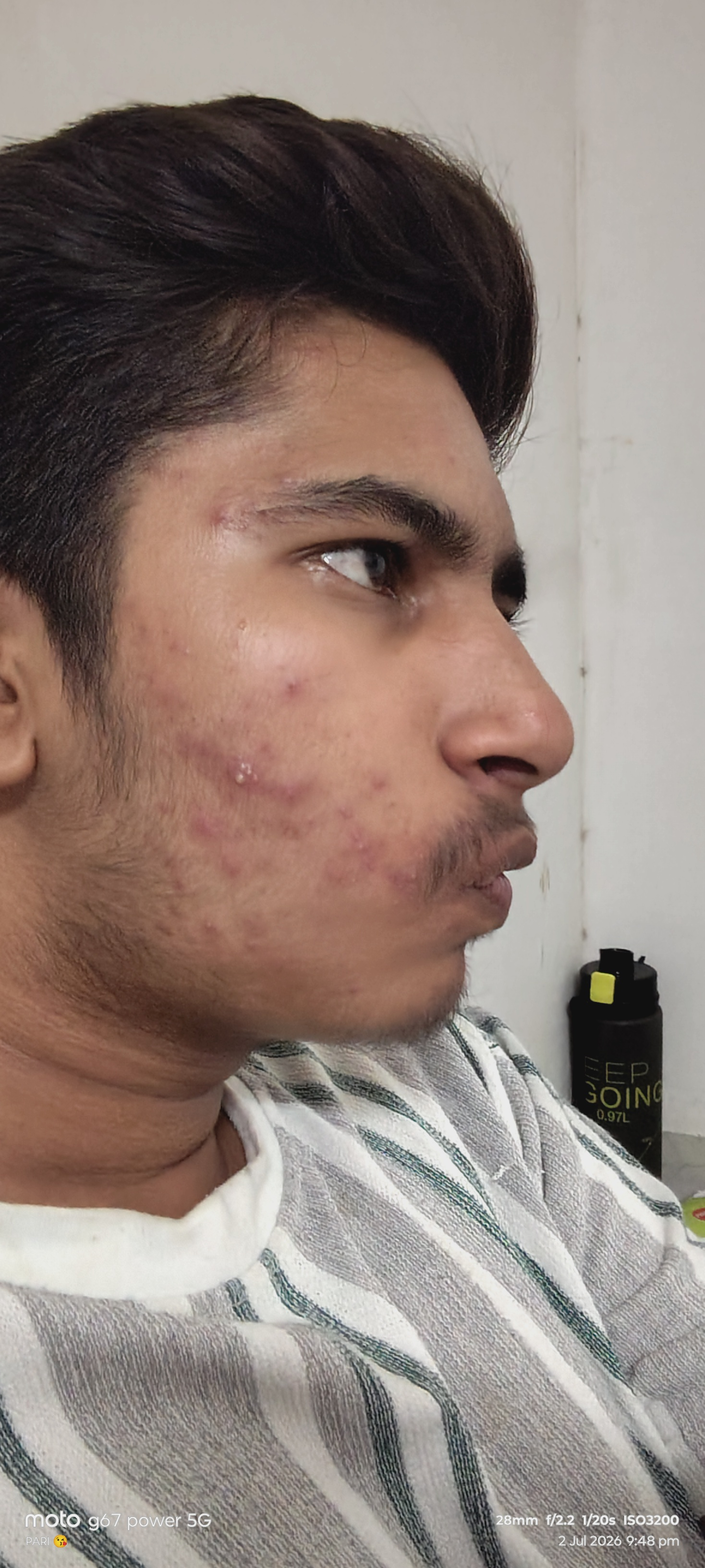macrocomedone: (203, 921, 224, 934), (245, 939, 263, 952), (180, 644, 195, 659)
papule: (212, 507, 236, 530), (281, 782, 302, 807), (350, 830, 368, 856), (408, 868, 427, 885), (283, 678, 304, 693)
pustule: (229, 761, 267, 793)
